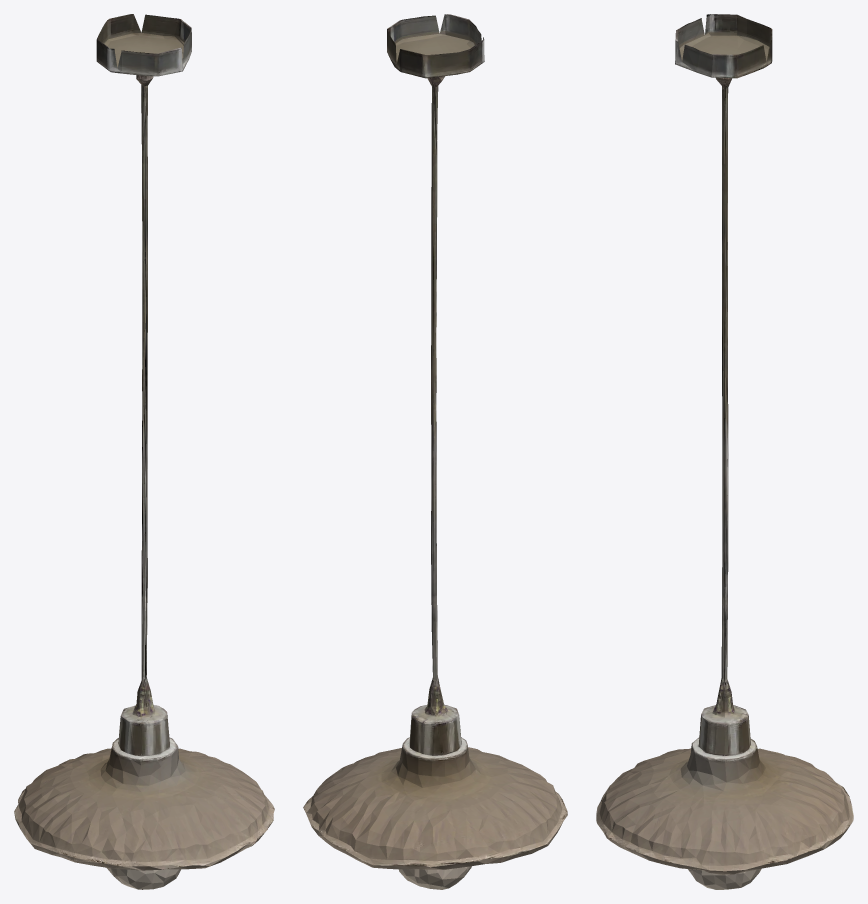
The model's file is ast_670765d4c8c6.glb.
3 renders of one model, left to right at view 1: azimuth 30°, elevation 25°; view 2: azimuth 150°, elevation 25°; view 3: azimuth 270°, elevation 25°, orthographic.
Parts seen in each view (by area): view 1: geometry_0; view 2: geometry_0; view 3: geometry_0.
Part boxes in pixels (<box>): geometry_0: <box>14,14,274,889</box>; geometry_0: <box>303,14,567,889</box>; geometry_0: <box>596,14,853,889</box>.
Bounding box in the file's own units: 0.2764 × 1 × 0.2737.
Materials: 1 (1 with a texture image).
